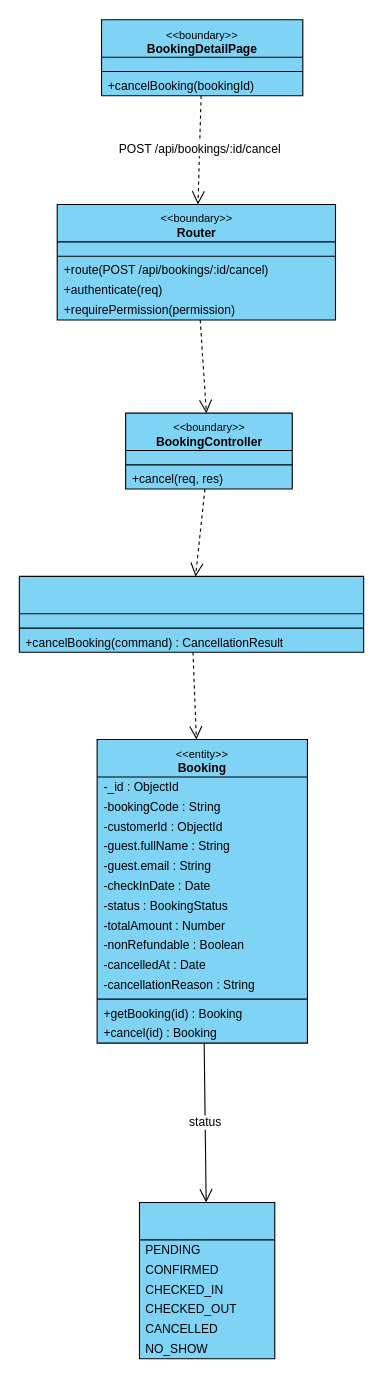
This 383x1378 diagram has some shape labels left out. Here are the shapes that lost their labels. From the top down, the box of each, then its label:
(18, 575, 364, 652): <<control>> BookingService
(138, 1201, 275, 1359): <<enumeration>> BookingStatus
